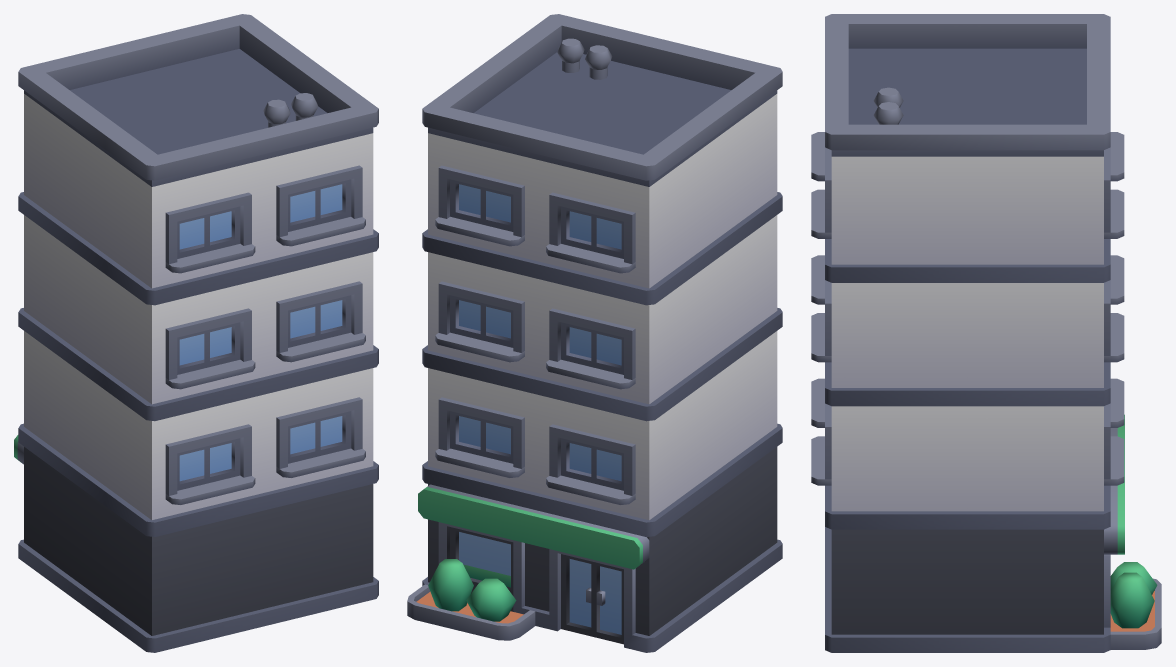
File: Building05.glb
3 renders of one model, left to right at view 1: azimuth 30°, elevation 25°; view 2: azimuth 150°, elevation 25°; view 3: azimuth 270°, elevation 25°, orthographic. The views are drawn at different scales.
Visible parts, largest first — view 1: building-f; view 2: building-f; view 3: building-f.
Boxes of the visible parts, bbox=[...] form: building-f: bbox=[14, 14, 378, 652]; building-f: bbox=[407, 14, 782, 652]; building-f: bbox=[811, 14, 1161, 652].
Bounding box in the file's own units: 0.84 × 1.69 × 1.03.
Materials: 1 (1 with a texture image).
